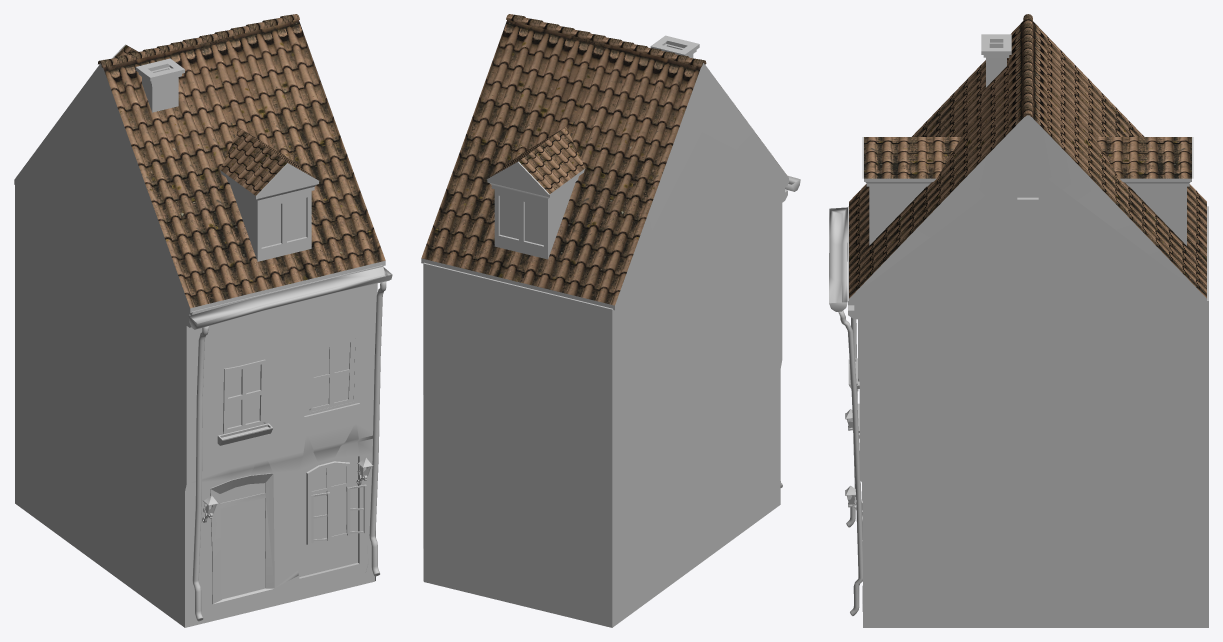
File: ForgottenHouse3.fbx
3 renders of one model, left to right at view 1: azimuth 30°, elevation 25°; view 2: azimuth 150°, elevation 25°; view 3: azimuth 270°, elevation 25°, orthographic. The views are drawn at different scales.
Visible parts, largest first — view 1: pCube12; view 2: pCube12; view 3: pCube12.
Boxes of the visible parts, x1,y1,x2,y2 form: pCube12: [14, 14, 392, 627]; pCube12: [421, 14, 800, 627]; pCube12: [829, 14, 1208, 627].
Bounding box in the file's own units: 1.43 × 3.52 × 2.34.
